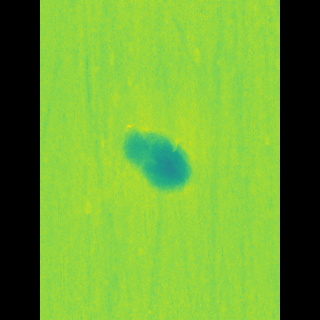Loch: (128, 122, 185, 196)
